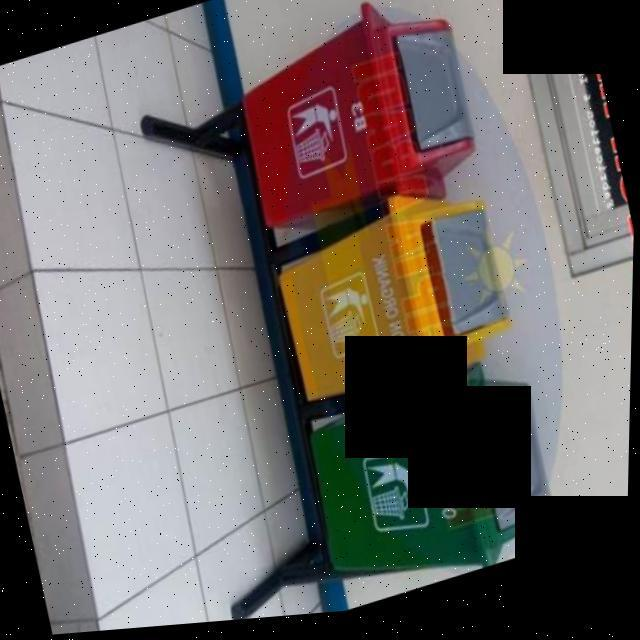bin: (247, 339, 594, 624), (210, 173, 531, 439), (190, 0, 503, 252)
